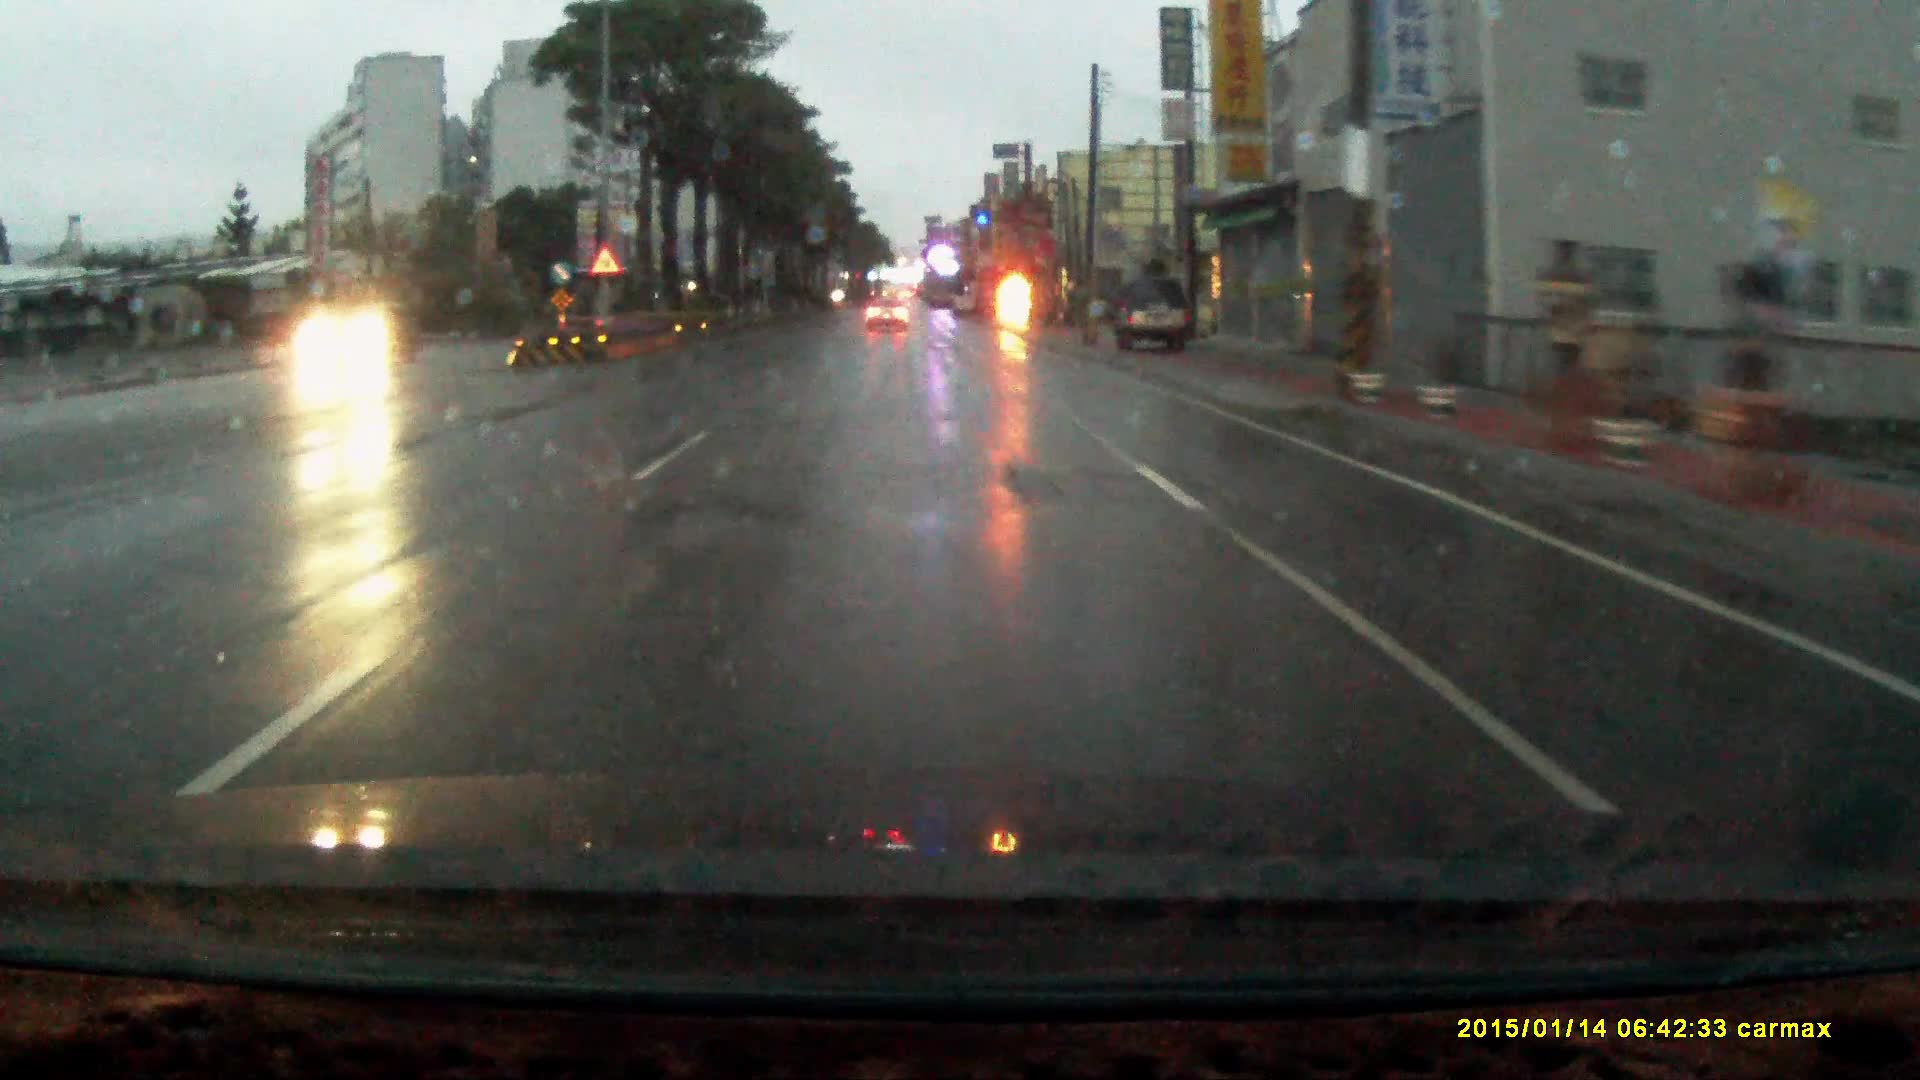vehicle: (1114, 280, 1196, 357), (865, 298, 910, 334)
